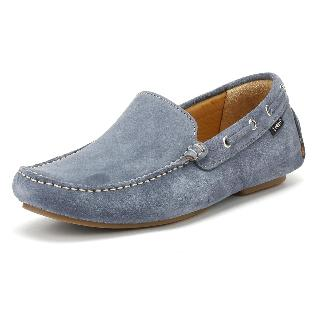loafers: (7, 69, 309, 237)
